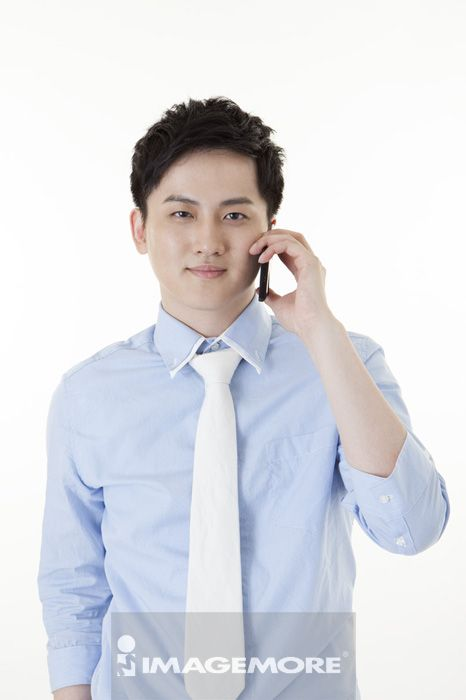phone: (257, 229, 272, 302)
talk: (151, 183, 336, 337)
